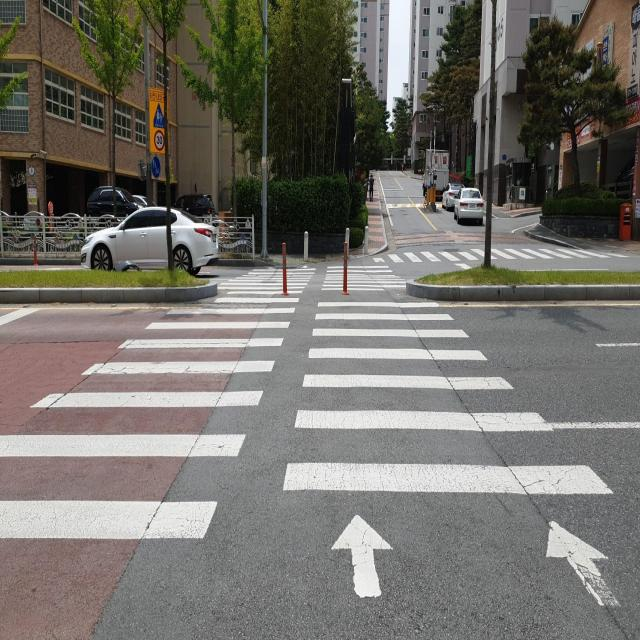횡단보도: (0, 263, 622, 608), (375, 246, 626, 266)
